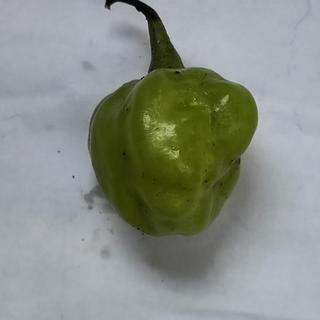Fly-bites: (167, 66, 188, 83), (200, 177, 214, 192), (119, 149, 133, 162), (216, 174, 224, 193)
